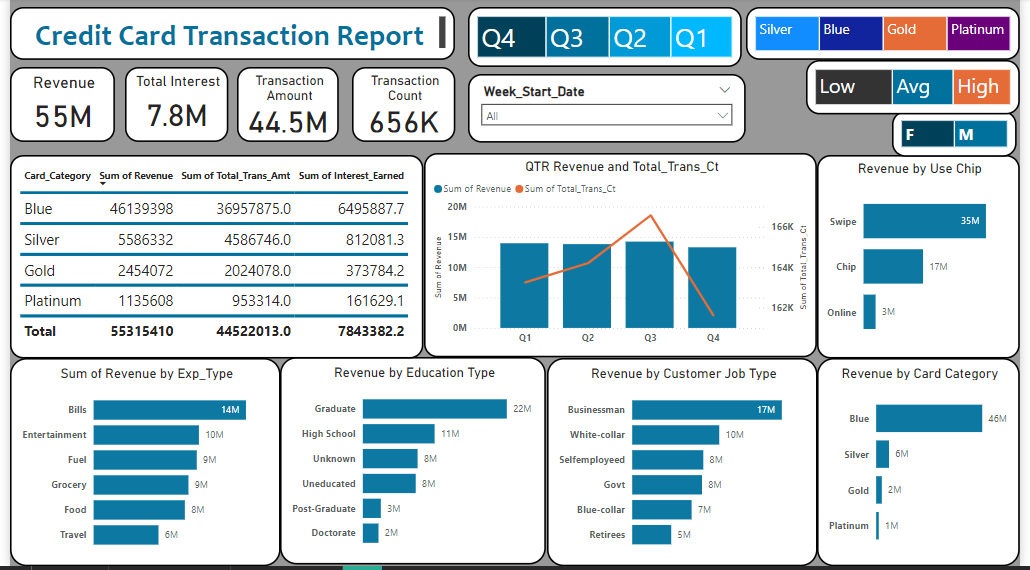

Layout of this report page (visuals, bound fields, positions):
{"tool":"powerbi","page":{"name":"CC_Transaction","canvas":[1280,720],"ordinal":1},"visuals":[{"type":"lineStackedColumnComboChart","title":"QTR Revenue and Total_Trans_Ct ","fields":{"Category":["cc_detail.Qtr"],"Y":["Sum(cc_detail.Revenue)"],"Y2":["Sum(cc_detail.Total_Trans_Ct)"]},"box":[524.4,196.8,498.2,258.8],"z":0},{"type":"textbox","box":[0,11,564.3,67.4],"z":1000},{"type":"barChart","fields":{"Y":["Sum(cc_detail.Revenue)"],"Category":["cc_detail.Exp_Type"]},"box":[0,456.4,343,264],"z":2000},{"type":"barChart","title":"Revenue by Education Type","fields":{"Y":["Sum(cc_detail.Revenue)"],"Category":["cust_detail.Education_Level"]},"box":[342.7,455.6,337.2,262.9],"z":3000},{"type":"barChart","title":"Revenue by Customer Job Type","fields":{"Y":["Sum(cc_detail.Revenue)"],"Category":["cust_detail.Customer_Job"]},"box":[680.3,456.4,343,263.6],"z":4000},{"type":"barChart","title":"Revenue by Card Category","fields":{"Y":["Sum(cc_detail.Revenue)"],"Category":["cc_detail.Card_Category"]},"box":[1023.3,456.4,256.5,263.6],"z":5000},{"type":"barChart","title":"Revenue by Use Chip","fields":{"Y":["Sum(cc_detail.Revenue)"],"Category":["cc_detail.Use_Chip"]},"box":[1023.3,198.4,256.5,258],"z":6000},{"type":"tableEx","fields":{"Values":["cc_detail.Card_Category","Sum(cc_detail.Revenue)","Sum(cc_detail.Total_Trans_Amt)","Sum(cc_detail.Interest_Earned)"]},"box":[0,198.4,524.4,258],"z":7000},{"type":"card","title":"Revenue","fields":{"Values":["Sum(cc_detail.Revenue)"]},"box":[0,87.9,133.2,95],"z":8000},{"type":"card","title":"Total Interest","fields":{"Values":["Sum(cc_detail.Interest_Earned)"]},"box":[145.9,88.1,130.8,95],"z":9000},{"type":"card","title":"Transaction Amount","fields":{"Values":["Sum(cc_detail.Total_Trans_Amt)"]},"box":[287.7,88.1,129.4,95],"z":10000},{"type":"card","title":"Transaction Count","fields":{"Values":["Sum(cc_detail.Total_Trans_Ct)"]},"box":[433.5,88.1,130.8,95],"z":11000},{"type":"slicer","fields":{"Values":["cc_detail.Week_Start_Date"]},"box":[580.8,96.3,352.3,86.7],"z":12000},{"type":"treemap","fields":{"Group":["cc_detail.Qtr"],"Values":["Avg(cc_detail.Client_Num)"]},"box":[580.8,11,346.8,75.7],"z":13000},{"type":"treemap","fields":{"Group":["cust_detail.Gender"],"Values":["Avg(cc_detail.Client_Num)"]},"box":[1117.6,143.1,158.3,57.8],"z":14000},{"type":"treemap","fields":{"Group":["cust_detail.IncomeGroup"],"Values":["Sum(cc_detail.Client_Num)"]},"box":[1008.9,78.5,271.1,68.8],"z":15000},{"type":"treemap","fields":{"Group":["cc_detail.Card_Category"],"Values":["Avg(cc_detail.Client_Num)"]},"box":[933.2,11,346.8,67.4],"z":16000}]}

Visuals, with their boxes in screenshot pixels (x1, y1, x2, y2), scaled from the page's 1280x720 canvas onto the 1030x570 screenshot:
"QTR Revenue and Total_Trans_Ct " lineStackedColumnComboChart: left=422, top=156, right=823, bottom=361
textbox: left=0, top=9, right=454, bottom=62
barChart - Sum(cc_detail.Revenue) x cc_detail.Exp_Type: left=0, top=361, right=276, bottom=569
"Revenue by Education Type" barChart: left=276, top=361, right=547, bottom=569
"Revenue by Customer Job Type" barChart: left=547, top=361, right=823, bottom=569
"Revenue by Card Category" barChart: left=823, top=361, right=1029, bottom=569
"Revenue by Use Chip" barChart: left=823, top=157, right=1029, bottom=361
tableEx - cc_detail.Card_Category x Sum(cc_detail.Revenue): left=0, top=157, right=422, bottom=361
"Revenue" card: left=0, top=70, right=107, bottom=145
"Total Interest" card: left=117, top=70, right=223, bottom=145
"Transaction Amount" card: left=232, top=70, right=336, bottom=145
"Transaction Count" card: left=349, top=70, right=454, bottom=145
slicer - cc_detail.Week_Start_Date: left=467, top=76, right=751, bottom=145
treemap - cc_detail.Qtr x Avg(cc_detail.Client_Num): left=467, top=9, right=746, bottom=69
treemap - cust_detail.Gender x Avg(cc_detail.Client_Num): left=899, top=113, right=1027, bottom=159
treemap - cust_detail.IncomeGroup x Sum(cc_detail.Client_Num): left=812, top=62, right=1029, bottom=117
treemap - cc_detail.Card_Category x Avg(cc_detail.Client_Num): left=751, top=9, right=1029, bottom=62
